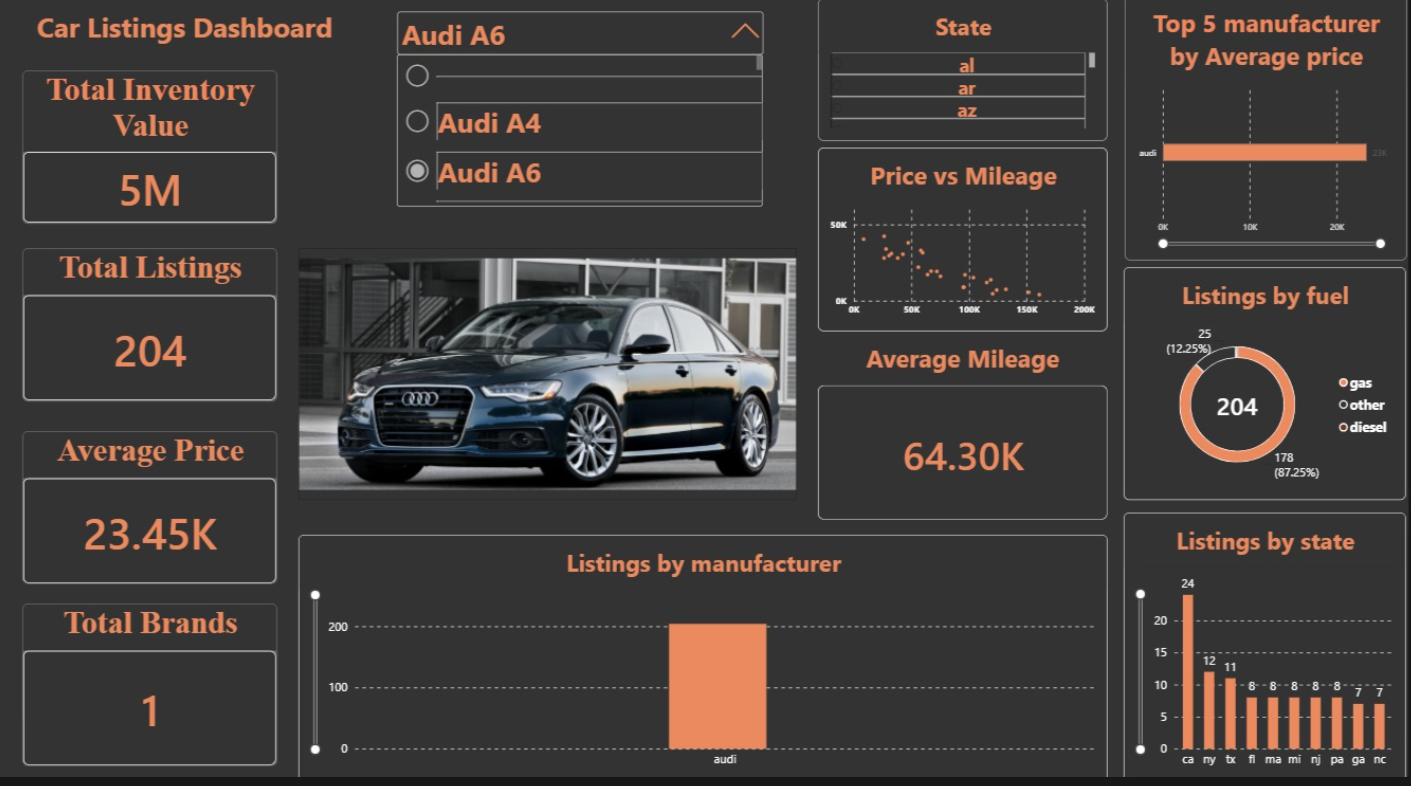

The page's visual inventory and layout, read from the dashboard file:
{"tool":"powerbi","page":{"name":"Page 1","canvas":[1920,1080],"ordinal":0},"visuals":[{"type":"cardVisual","title":"Total Inventory Value","fields":{"Data":["Sum(cars_sample_80k_updated.price)"]},"box":[33.1,109.4,346.9,208.7],"z":0},{"type":"cardVisual","title":"Average Price","fields":{"Data":["Avg(cars_sample_80k_updated.price)"]},"box":[33.1,600.2,347,208.2],"z":1000},{"type":"cardVisual","title":"Total Brands","fields":{"Data":["Count(cars_sample_80k_updated.manufacturer)"]},"box":[33.1,834.8,347,221.4],"z":2000},{"type":"cardVisual","title":"Total Listings","fields":{"Data":["CountNonNull(cars_sample_80k_updated.price)"]},"box":[33.1,351.2,346.9,208.7],"z":3000},{"type":"slicer","fields":{"Values":["cars_sample_80k_updated.matched_car_name"]},"box":[538.3,24.5,508.1,132.4],"z":4000},{"type":"image","box":[408.8,339.7,677.9,352.6],"z":5000},{"type":"textbox","box":[47.5,24.5,413.1,61.9],"z":6000},{"type":"clusteredBarChart","title":"Top 5 manufacturer by Average price","fields":{"Category":["cars_sample_80k_updated.manufacturer"],"Y":["Avg(cars_sample_80k_updated.price)"]},"box":[1532.8,7.2,384.3,361.3],"z":7000},{"type":"donutChart","title":"Listings by fuel","fields":{"Category":["cars_sample_80k_updated.fuel"],"Y":["CountNonNull(cars_sample_80k_updated.price)"]},"box":[1531.4,377.1,384.3,316.6],"z":8000},{"type":"clusteredColumnChart","title":"Listings by state","fields":{"Category":["cars_sample_80k_updated.state"],"Y":["CountNonNull(cars_sample_80k_updated.price)"]},"box":[1531.4,711,384.3,368.5],"z":9000},{"type":"clusteredColumnChart","title":"Listings by manufacturer","fields":{"Category":["cars_sample_80k_updated.manufacturer"],"Y":["CountNonNull(cars_sample_80k_updated.price)"]},"box":[408.8,741.2,1101,338.2],"z":10000},{"type":"listSlicer","title":"State","fields":{"Values":["cars_sample_80k_updated.state"]},"box":[1115.4,11.5,394.4,194.3],"z":11000},{"type":"scatterChart","title":"Price vs Mileage","fields":{"Category":["cars_sample_80k_updated.model"],"X":["Avg(cars_sample_80k_updated.odometer)"],"Y":["Avg(cars_sample_80k_updated.price)"]},"box":[1115.4,214.5,394.4,250.4],"z":12000},{"type":"cardVisual","title":"Average Mileage","fields":{"Data":["Avg(cars_sample_80k_updated.odometer)"]},"box":[1115.4,477.8,394.4,243.2],"z":13000}]}

Visuals, with their boxes in screenshot pixels (x1, y1, x2, y2), scaled from the page's 1920x1080 canvas onto the 1411x786 screenshot:
"Total Inventory Value" cardVisual: box(24, 80, 279, 232)
"Average Price" cardVisual: box(24, 437, 279, 588)
"Total Brands" cardVisual: box(24, 608, 279, 769)
"Total Listings" cardVisual: box(24, 256, 279, 407)
slicer - cars_sample_80k_updated.matched_car_name: box(396, 18, 769, 114)
image: box(300, 247, 799, 504)
textbox: box(35, 18, 338, 63)
"Top 5 manufacturer by Average price" clusteredBarChart: box(1126, 5, 1409, 268)
"Listings by fuel" donutChart: box(1125, 274, 1408, 505)
"Listings by state" clusteredColumnChart: box(1125, 517, 1408, 785)
"Listings by manufacturer" clusteredColumnChart: box(300, 539, 1110, 785)
"State" listSlicer: box(820, 8, 1110, 150)
"Price vs Mileage" scatterChart: box(820, 156, 1110, 338)
"Average Mileage" cardVisual: box(820, 348, 1110, 525)
